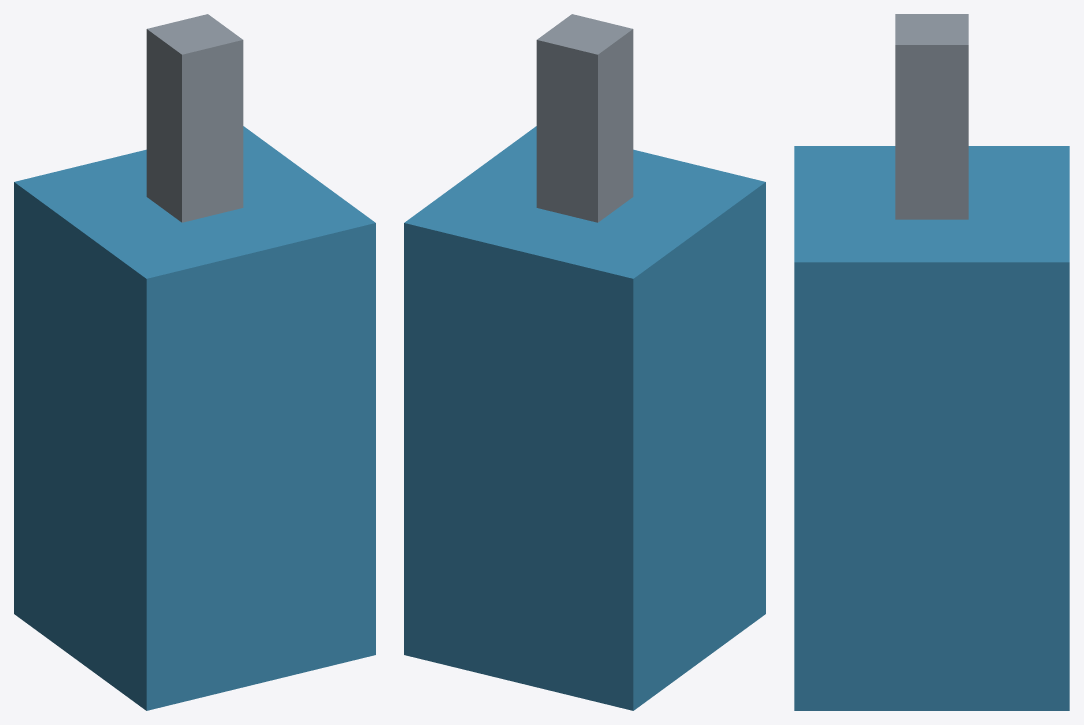
The model's file is herr_aire.obj.
3 views of the same model, side by side, from view 1: azimuth 30°, elevation 25°; view 2: azimuth 150°, elevation 25°; view 3: azimuth 270°, elevation 25° (orthographic). The views are drawn at different scales.
Visible parts, largest first — view 1: herr_aire.001, herr_aire.002; view 2: herr_aire.001, herr_aire.002; view 3: herr_aire.001, herr_aire.002.
Part boxes in pixels (box(x1,y1,x2,y2)): herr_aire.001: box(14, 126, 375, 710); herr_aire.002: box(146, 14, 243, 222); herr_aire.001: box(404, 126, 765, 710); herr_aire.002: box(536, 14, 633, 222); herr_aire.001: box(794, 146, 1069, 710); herr_aire.002: box(895, 14, 968, 219).
Size of the model in its own units: 0.03 by 0.075 by 0.03.
